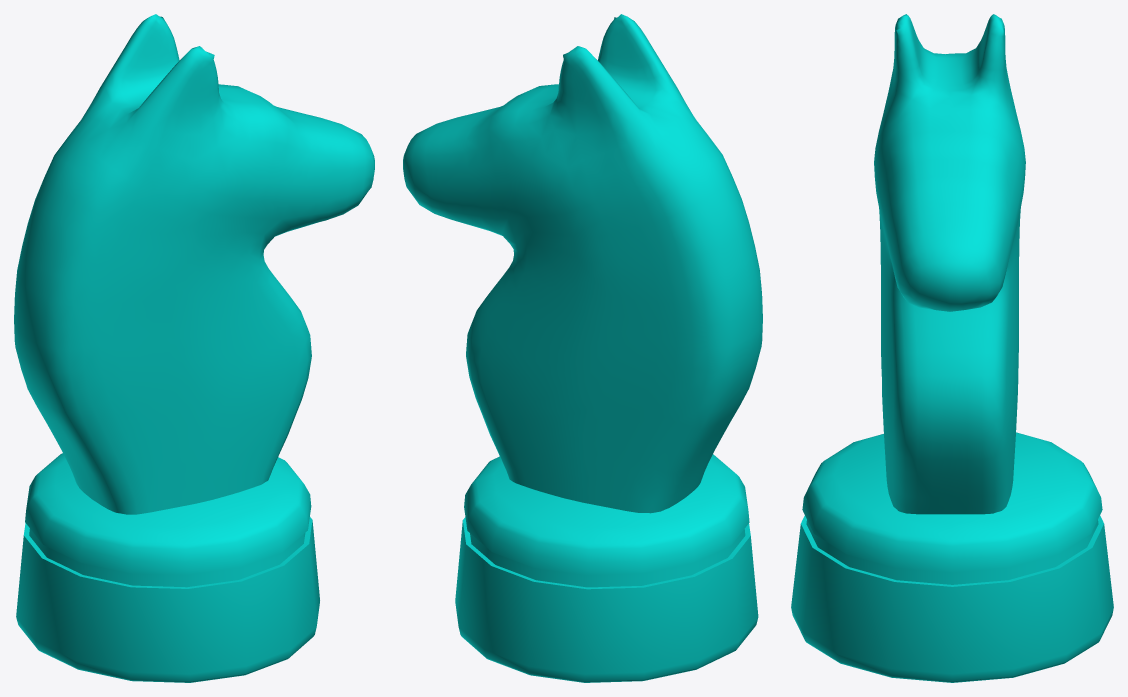
3 renders of one model, left to right at view 1: azimuth 30°, elevation 25°; view 2: azimuth 150°, elevation 25°; view 3: azimuth 270°, elevation 25°, orthographic. The views are drawn at different scales.
Visible parts, largest first — view 1: Knight.White.001; view 2: Knight.White.001; view 3: Knight.White.001.
Boxes of the visible parts, x1,y1,x2,y2 form: Knight.White.001: (14, 14, 374, 682); Knight.White.001: (403, 14, 762, 682); Knight.White.001: (791, 14, 1113, 682).
Size of the model in its own units: 94.62 by 156 by 75.08.
